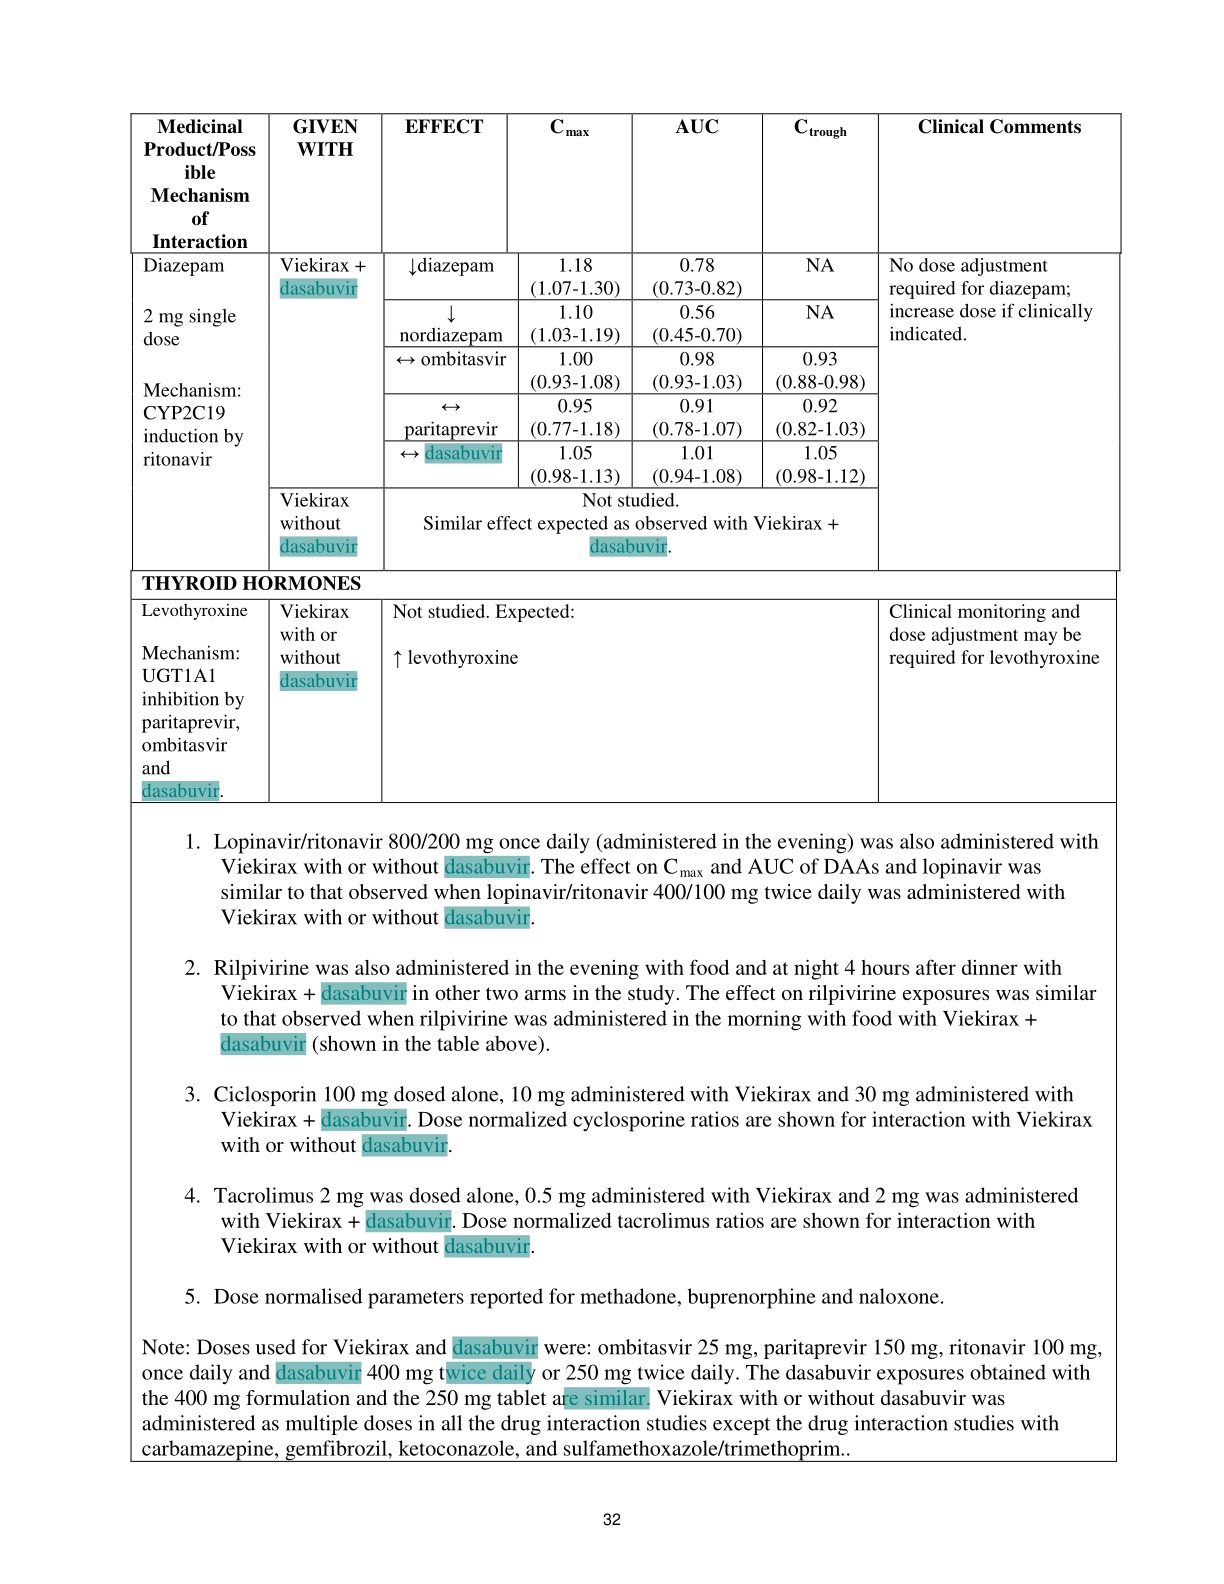merged_cells: (129, 111, 1122, 1464)
